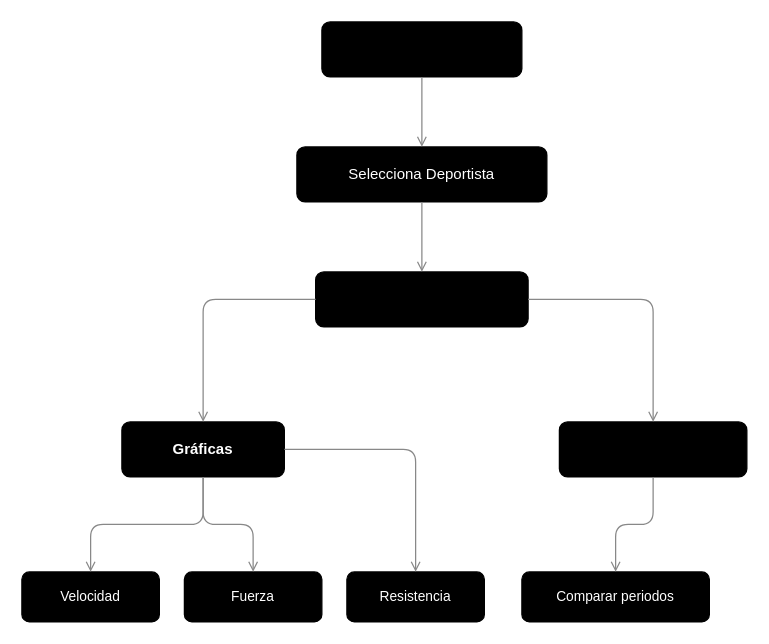
Image size: 769x644. Some labels were removed from this diagram. The centre of each missing label's shape, as x and y in pixels:
"Filtros por fecha" belongs at (x=652, y=449).
"Usuario" belongs at (x=421, y=49).
"Ver Rendimiento" belongs at (x=421, y=299).
